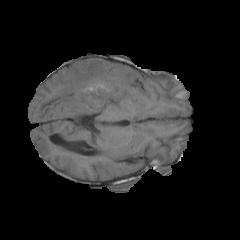glioma: (39, 59, 137, 113)
